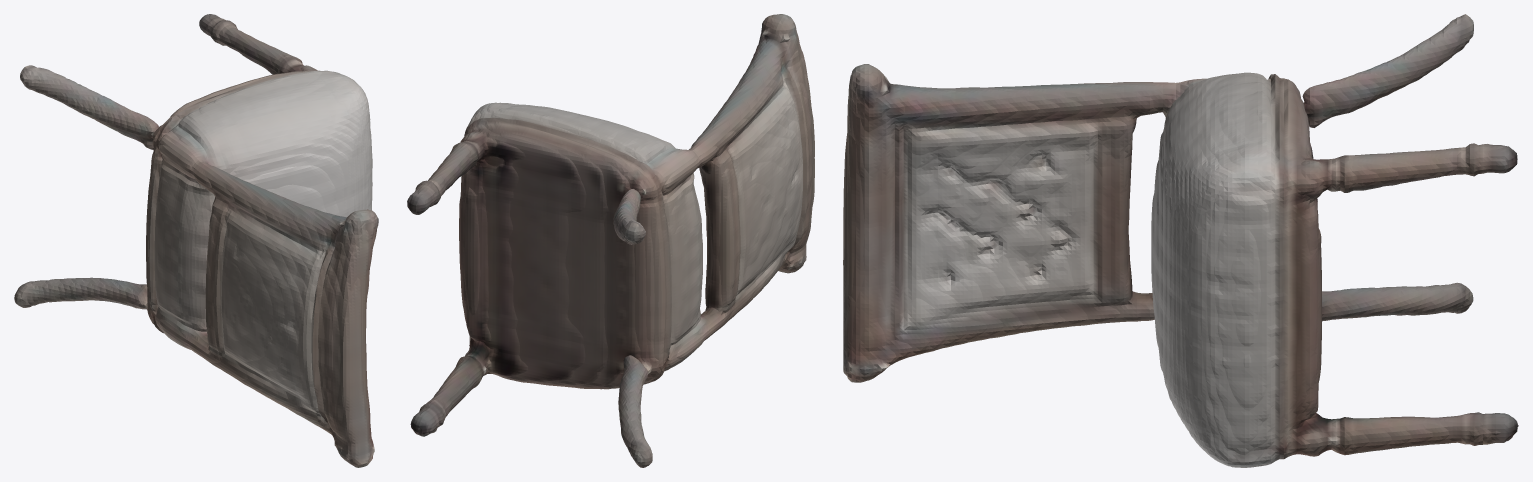
Rendered from examplechair.glb.
3 views of the same model, side by side, from view 1: azimuth 30°, elevation 25°; view 2: azimuth 150°, elevation 25°; view 3: azimuth 270°, elevation 25° (orthographic). The views are drawn at different scales.
Parts seen in each view (by area): view 1: world; view 2: world; view 3: world.
Boxes of the visible parts, left/top/right/bottom form: world: left=14, top=14, right=378, bottom=467; world: left=407, top=14, right=814, bottom=467; world: left=843, top=14, right=1518, bottom=467.
Size of the model in its own units: 0.6037 by 0.5686 by 1.07.
